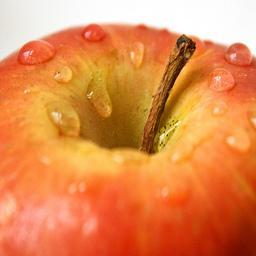apple: (0, 22, 255, 252)
